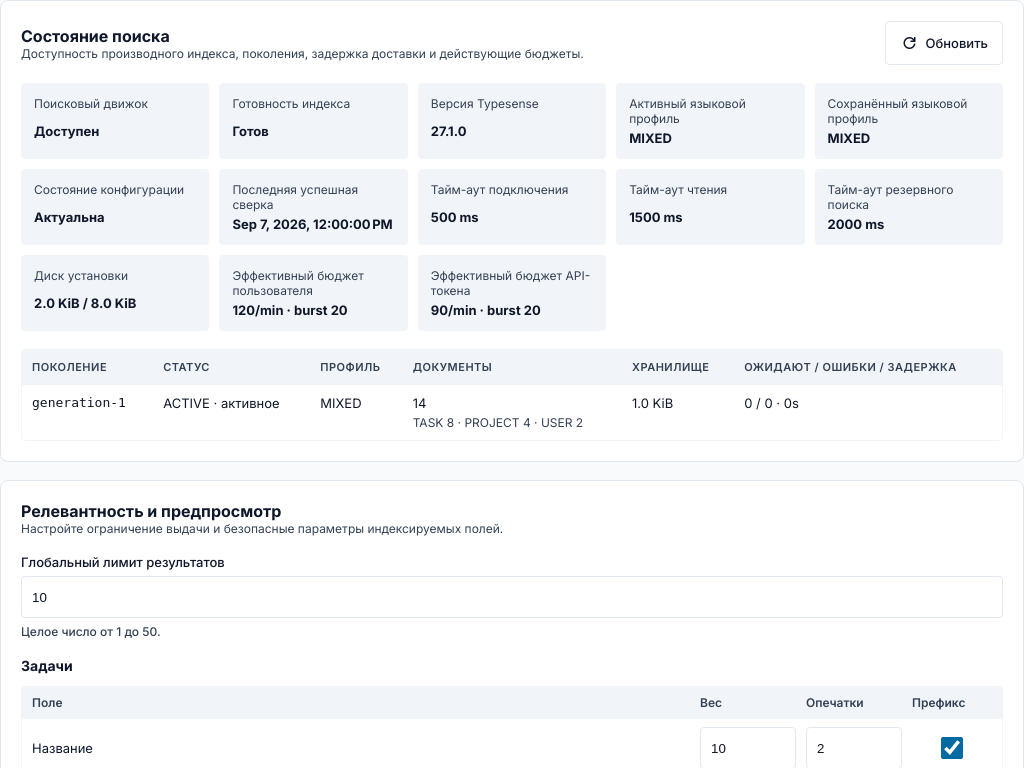
it: SearchSettingsComponent › blocks an invalid policy before issuing a save request
Replace the text in the number field with id "search-global-limit" with "0" at (512, 597), box [21,576,1003,618]
(page scrolled)
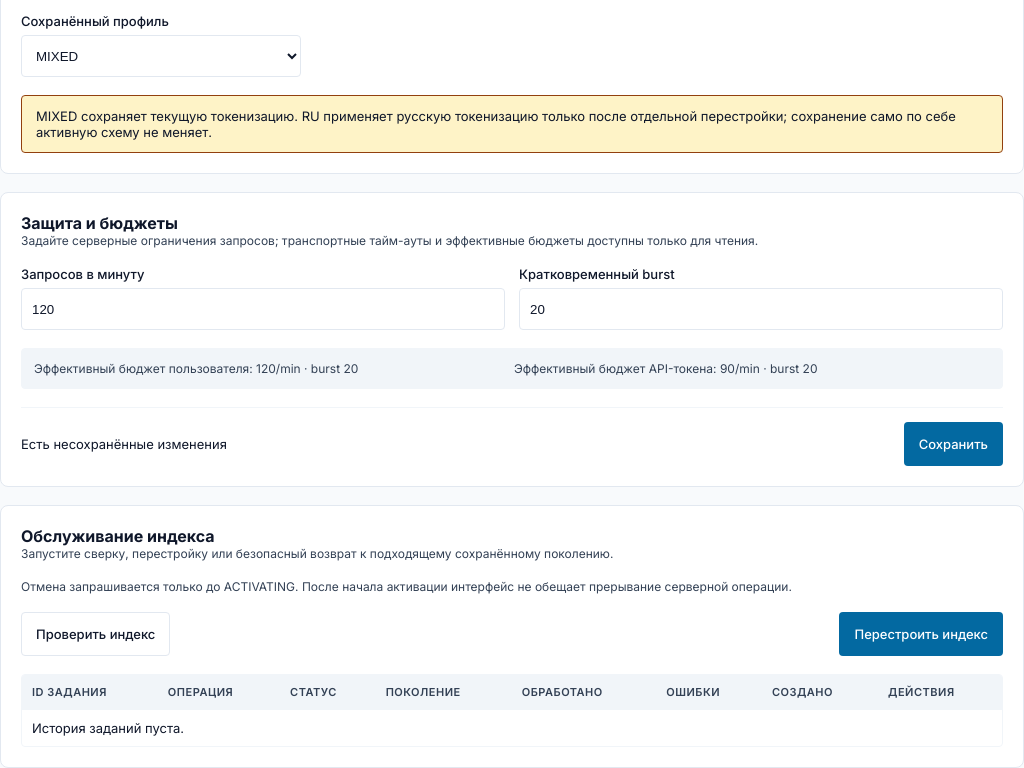
Click the button "Сохранить" at (953, 444), box [904,422,1003,466]
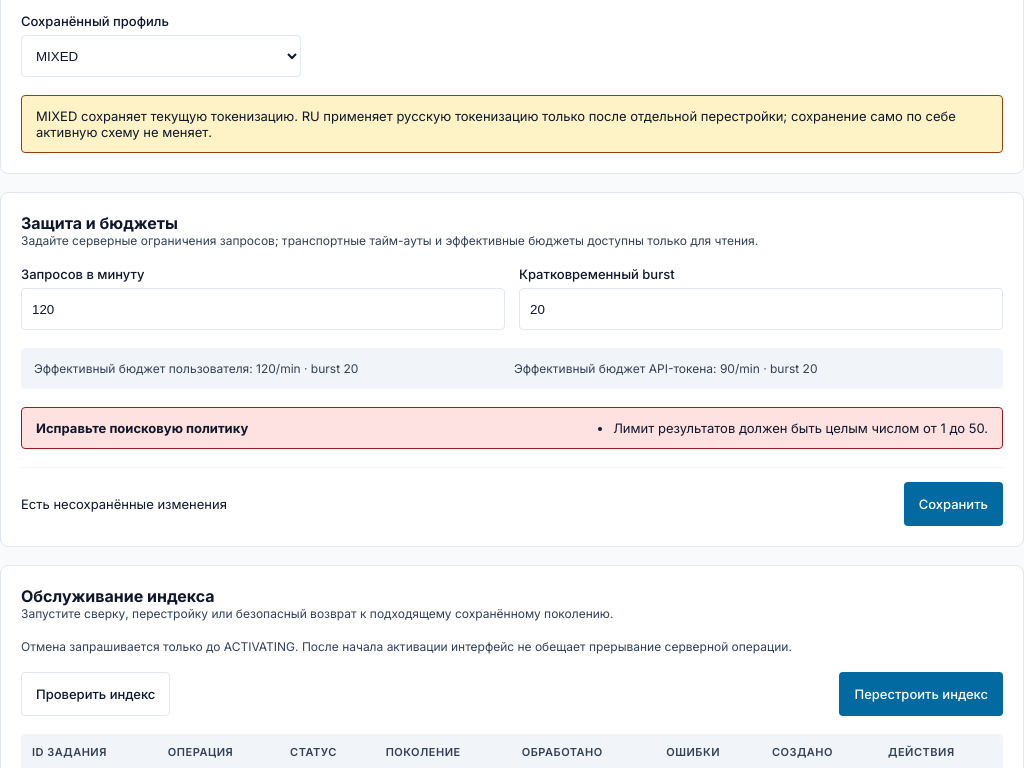
Now the message that starts with "Исправьте поисковую политику" is shown, box [21,407,1003,449]
